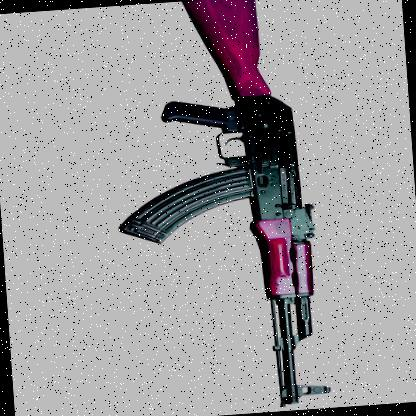rifle: (97, 0, 360, 408)
